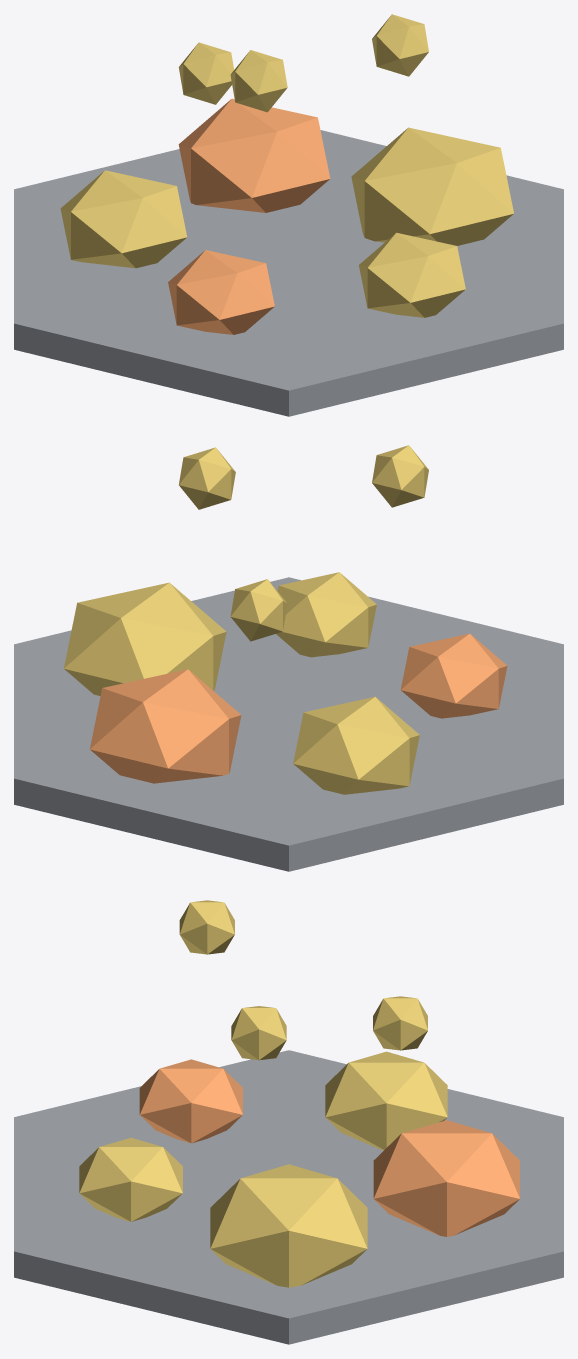
The model's file is animprop_campfire_ember_05.glb.
The picture shows the model from 3 angles, top to bottom: view 1: azimuth 30°, elevation 25°; view 2: azimuth 150°, elevation 25°; view 3: azimuth 270°, elevation 25°; orthographic projection.
Parts seen in each view (by area): view 1: animprop; view 2: animprop; view 3: animprop.
Part boxes in pixels (x1=…): animprop: x1=14, y1=14, x2=563, y2=416; animprop: x1=14, y1=445, x2=563, y2=871; animprop: x1=14, y1=900, x2=563, y2=1344.
Size of the model in its own units: 0.88 by 0.4183 by 0.7621.
